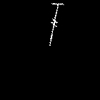treble_crochet: (50, 3, 57, 42)
